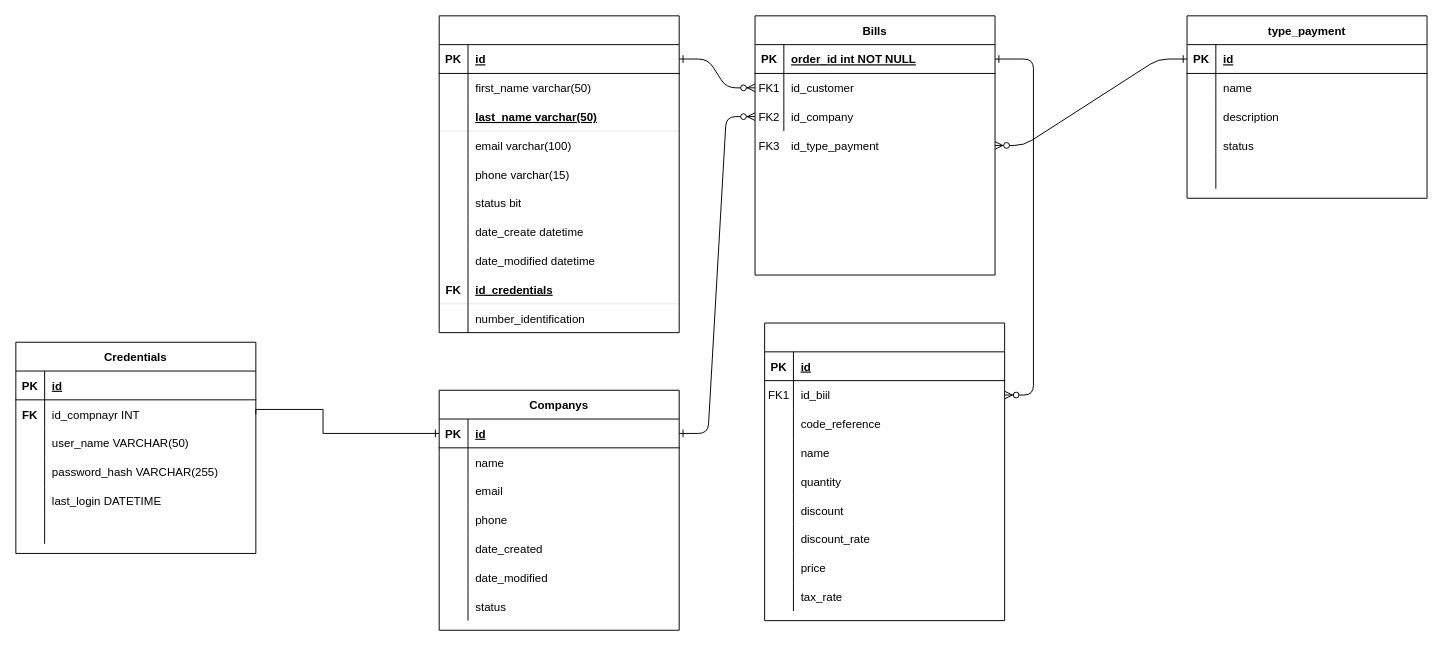
This 1443x646 diagram has some shape labels left out. The shapes that lost their labels are listed below. From the top down, each one's box as (x1, y1, x2, y2) in pixels, then its label:
(438, 15, 679, 333): Customers
(764, 322, 1005, 621): Items
